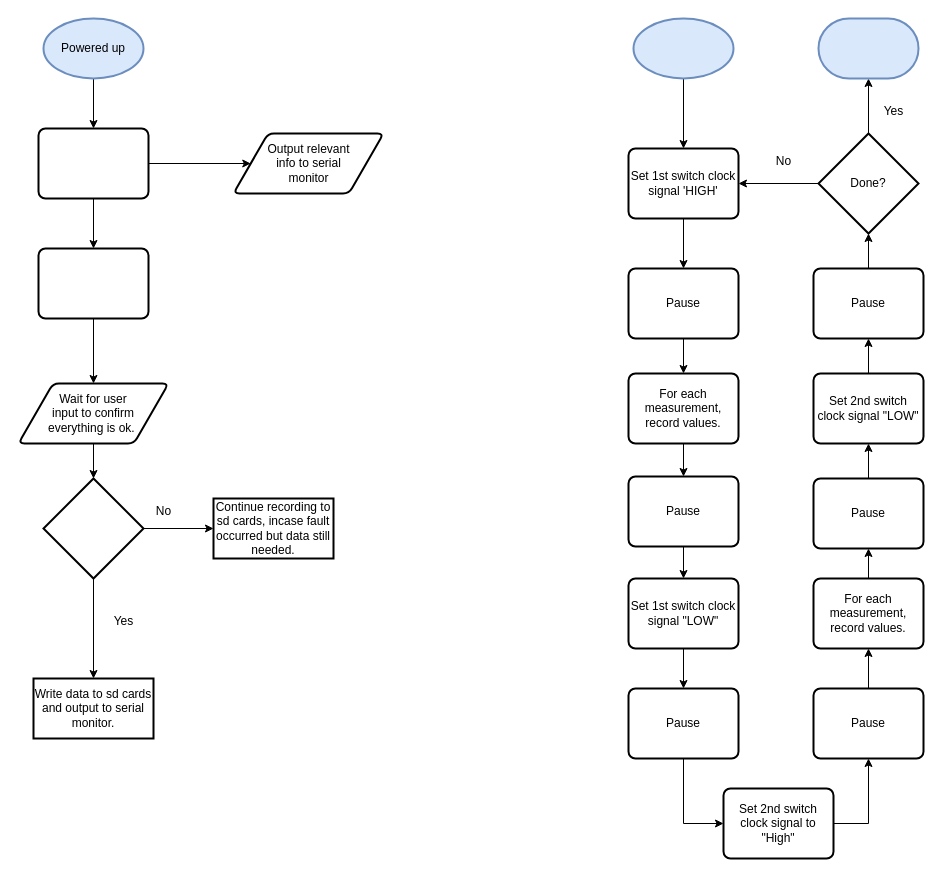
Image size: 941x876. Some labels were removed from this diagram. The centre of each missing label's shape, as x and y in pixels:
Confirmed ok: (93,528)
Finish: (868,48)
Initialise everything. And confirm everything functional: (93,163)
Record data: (683,48)
Record data to sd cards in background (temp file).: (93,283)
